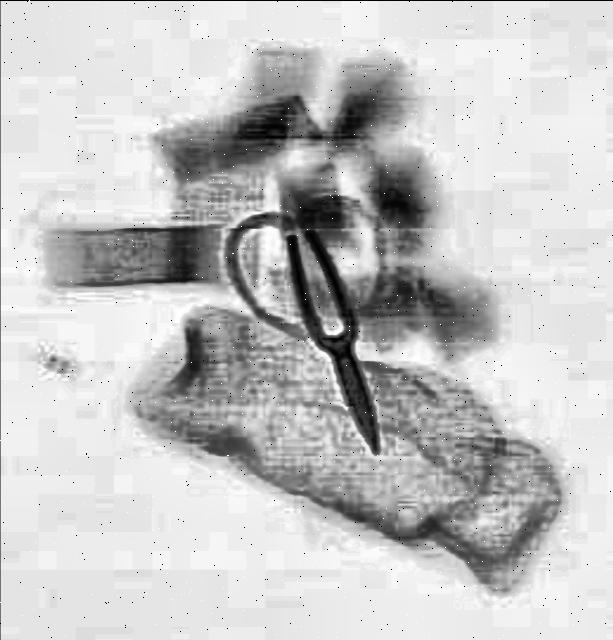Scissors: (207, 174, 451, 476)
